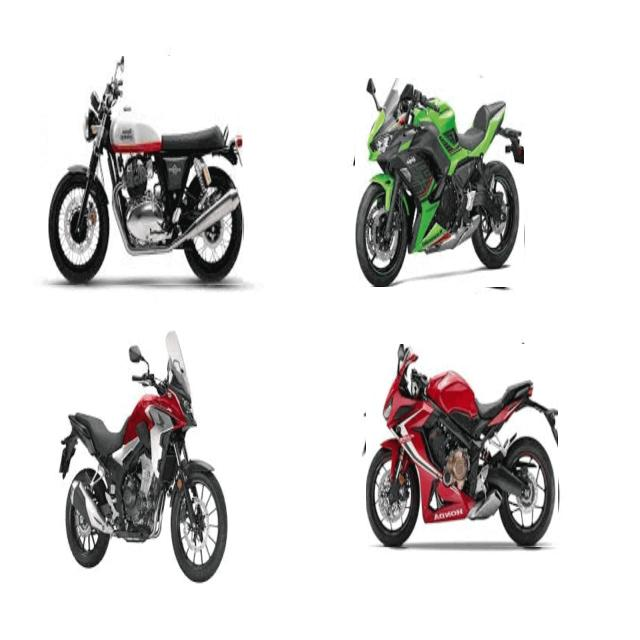motorcycle: (49, 57, 243, 285), (60, 333, 228, 581), (367, 345, 558, 547), (356, 78, 524, 287)
